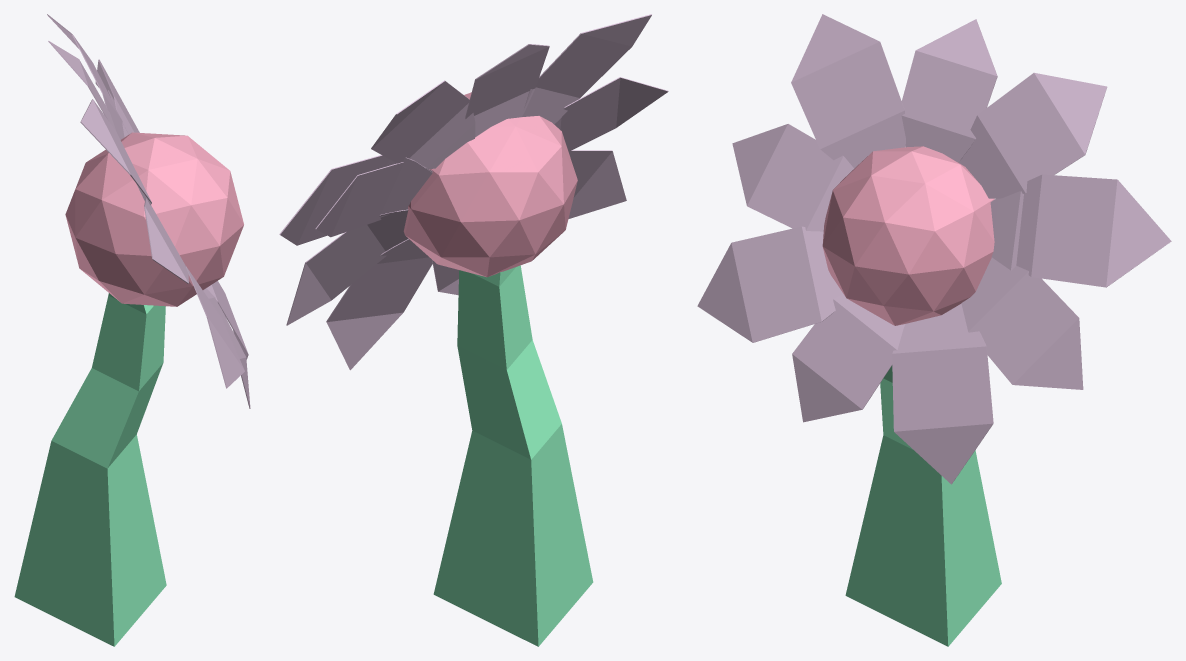
File: fleure3.glb
3 renders of one model, left to right at view 1: azimuth 30°, elevation 25°; view 2: azimuth 150°, elevation 25°; view 3: azimuth 270°, elevation 25°, orthographic. The views are drawn at different scales.
Visible parts, largest first — view 1: Cylinder.003; view 2: Cylinder.003; view 3: Cylinder.003.
Boxes of the visible parts, bbox=[...] form: Cylinder.003: bbox=[14, 14, 250, 646]; Cylinder.003: bbox=[279, 14, 668, 646]; Cylinder.003: bbox=[697, 14, 1171, 646].
Bounding box in the file's own units: 2.95 × 6.92 × 5.17.
